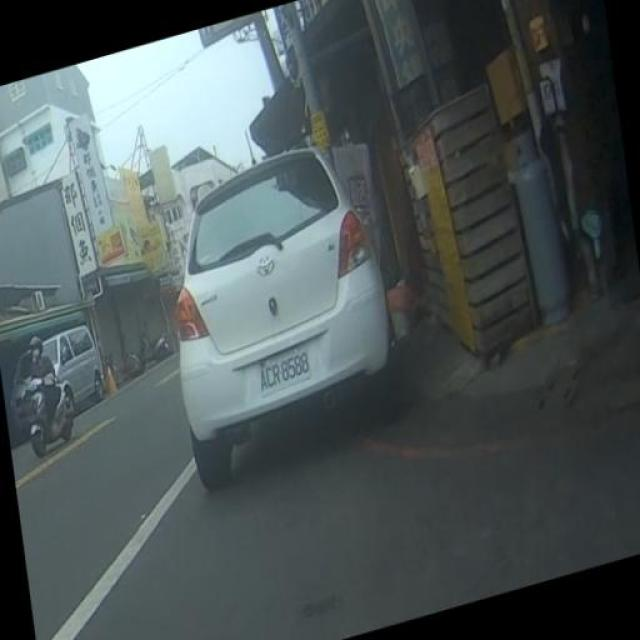Legalparking: (138, 142, 493, 496)
